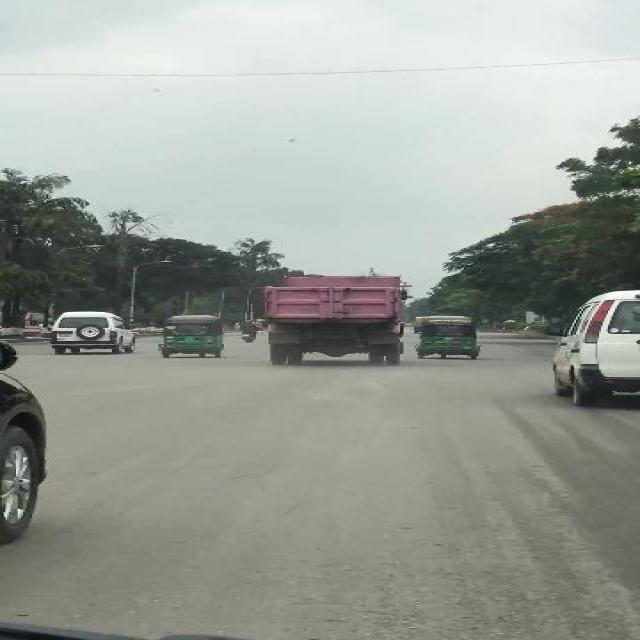minivan: (550, 286, 638, 408)
motorbike: (236, 318, 258, 344)
rickshaw: (498, 318, 519, 334)
suv: (47, 310, 138, 354)
three wheelers -CNG-: (415, 314, 481, 361), (155, 314, 225, 358)
truck: (259, 274, 406, 366)
